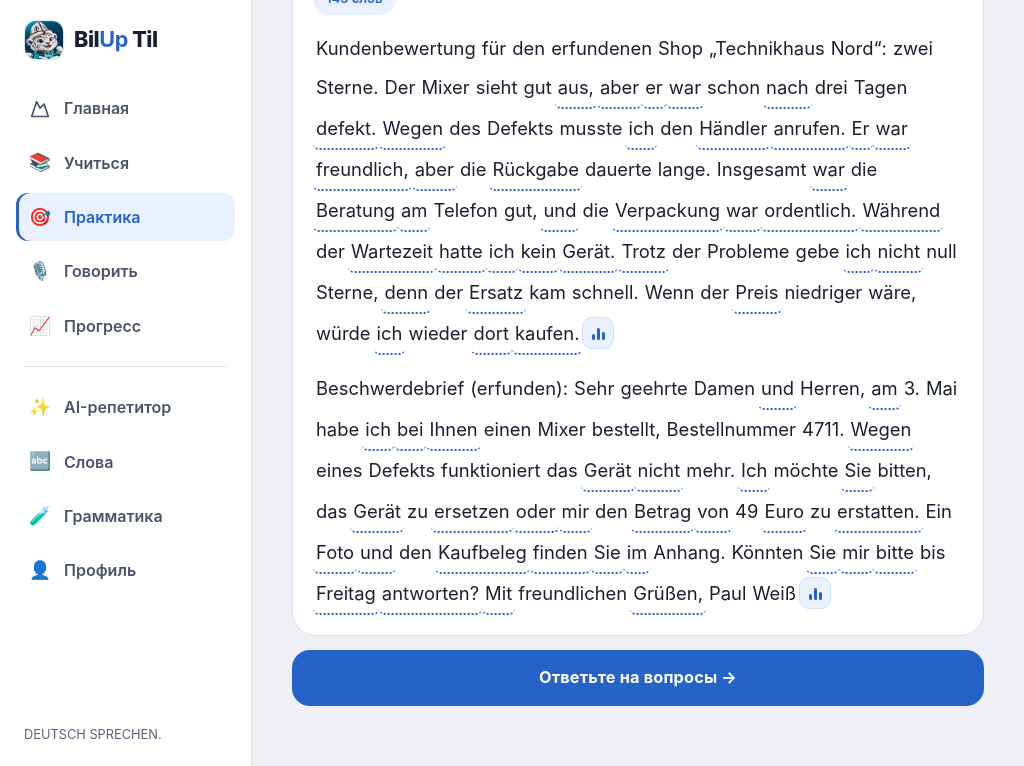
Test: reading and listening flows › ru: the reading shows its text and questions; answering one gives feedback and no error is logged
Later steps or results of the test are not shown.
(page scrolled)
Click the button "Ответьте на вопросы →".
click(638, 678)  # box [292,650,984,706]
(page scrolled)
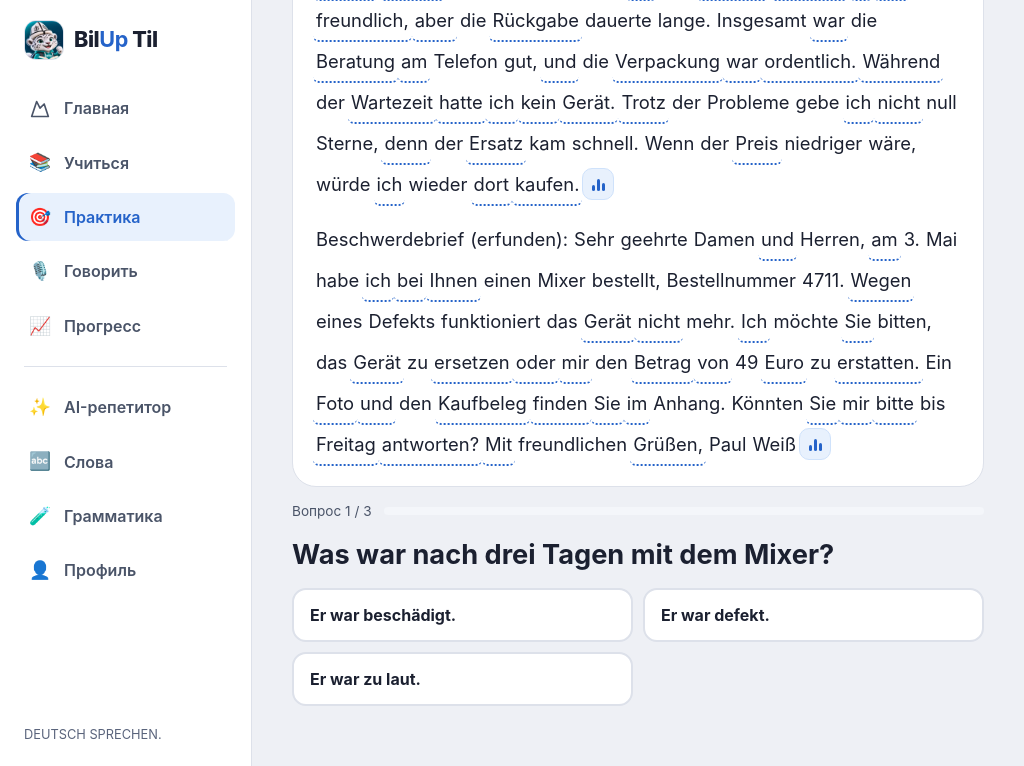
Check: the text "Was war nach drei Tagen mit dem Mixer?" is shown, box [292,537,834,574]
Check: the button "Er war beschädigt." is shown, box [292,588,633,642]
